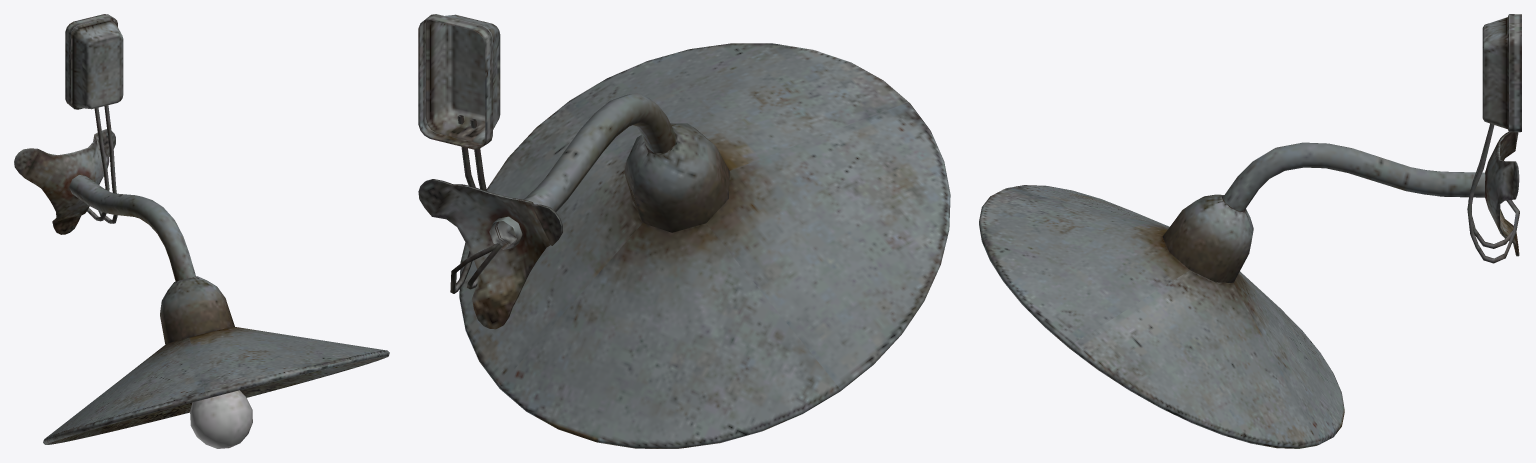
File: sm35_037_nakedlight01a.fbx
3 views of the same model, side by side, from view 1: azimuth 30°, elevation 25°; view 2: azimuth 150°, elevation 25°; view 3: azimuth 270°, elevation 25° (orthographic). The views are drawn at different scales.
Parts seen in each view (by area): view 1: LOD_1_Group_1_Sub_1__sm35_037_nakedLight01A_A_Mat, LOD_1_Group_0_Sub_1__sm35_037_nakedLight01A_A_Mat__Env_Emiss; view 2: LOD_1_Group_1_Sub_1__sm35_037_nakedLight01A_A_Mat; view 3: LOD_1_Group_1_Sub_1__sm35_037_nakedLight01A_A_Mat.
Part boxes in pixels (<box>): LOD_1_Group_1_Sub_1__sm35_037_nakedLight01A_A_Mat: <box>14,14,389,444</box>; LOD_1_Group_0_Sub_1__sm35_037_nakedLight01A_A_Mat__Env_Emiss: <box>190,390,252,448</box>; LOD_1_Group_1_Sub_1__sm35_037_nakedLight01A_A_Mat: <box>418,14,950,448</box>; LOD_1_Group_1_Sub_1__sm35_037_nakedLight01A_A_Mat: <box>979,14,1521,448</box>.
Bounding box in the file's own units: 0.5555 × 0.5883 × 0.7144.
